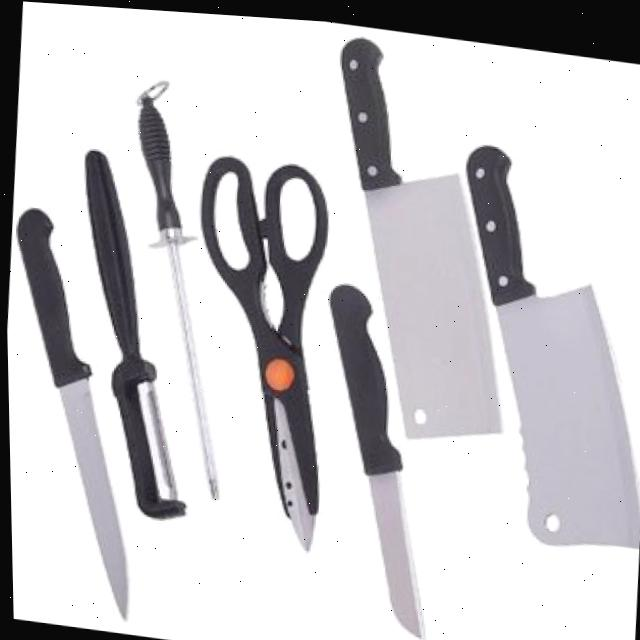knife: (298, 23, 552, 462), (411, 132, 640, 549), (102, 66, 252, 542), (3, 200, 156, 622), (300, 272, 452, 640), (57, 144, 198, 510)
